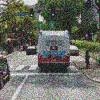buses: (38, 30, 72, 73)
